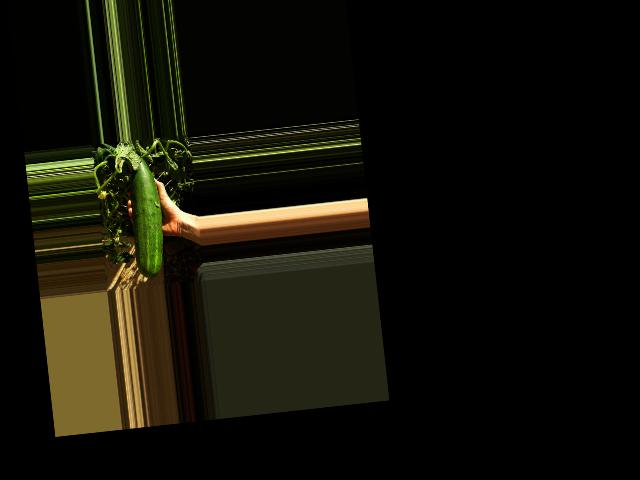cucumber: (124, 154, 168, 279)
